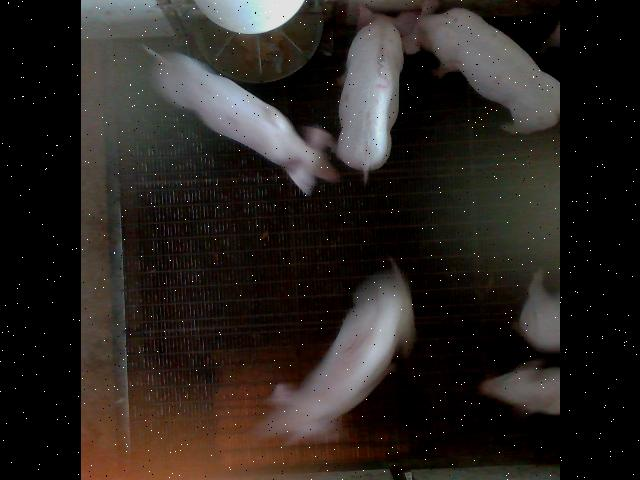pig-3: (336, 9, 417, 179)
